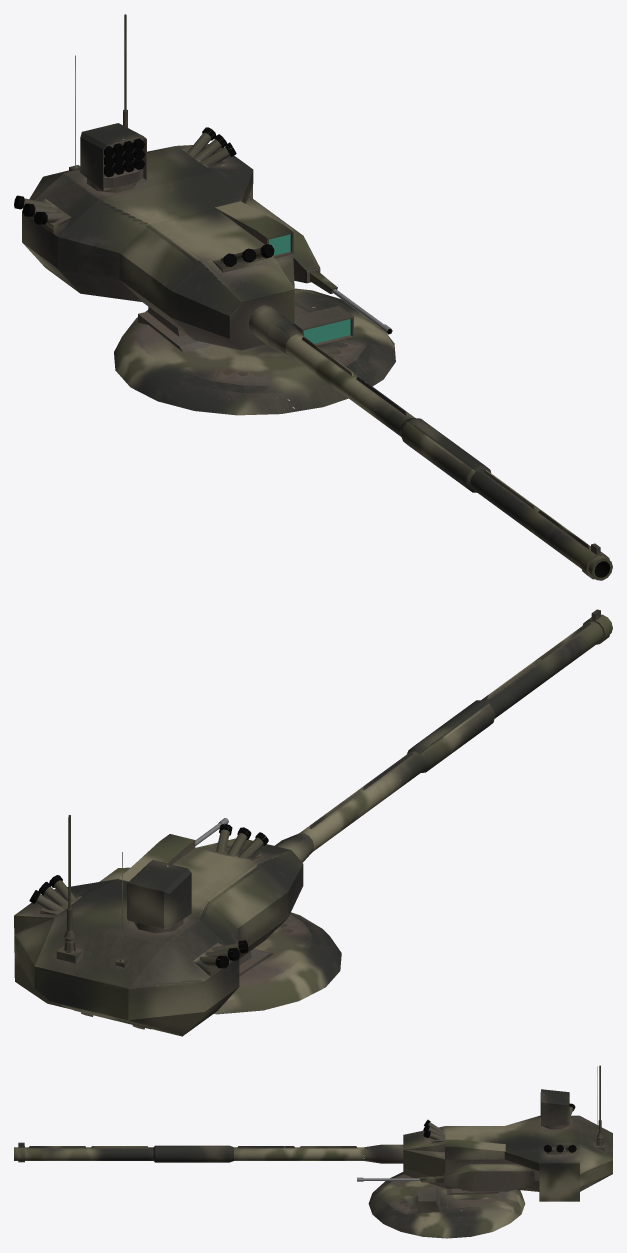
Rendered from cannon.fbx.
The picture shows the model from 3 angles, top to bottom: view 1: azimuth 30°, elevation 25°; view 2: azimuth 150°, elevation 25°; view 3: azimuth 270°, elevation 25°; orthographic projection. The views are drawn at different scales.
Visible parts, largest first — view 1: cannon_gun_LOD0, cannon_turret_LOD0, aps_LOD0; view 2: cannon_gun_LOD0, cannon_turret_LOD0, aps_LOD0; view 3: cannon_gun_LOD0, cannon_turret_LOD0, aps_LOD0.
Part boxes in pixels (box(x1,y1,x2,y2)): cannon_gun_LOD0: box(14, 14, 612, 580); cannon_turret_LOD0: box(114, 288, 395, 415); aps_LOD0: box(80, 123, 146, 192); cannon_gun_LOD0: box(14, 609, 612, 1036); cannon_turret_LOD0: box(214, 912, 341, 1014); aps_LOD0: box(127, 860, 191, 933); cannon_gun_LOD0: box(14, 1065, 612, 1201); cannon_turret_LOD0: box(368, 1172, 525, 1238); aps_LOD0: box(540, 1089, 569, 1129).
Size of what is drawn, in the model's own units: 2.49 by 2.25 by 8.79.
